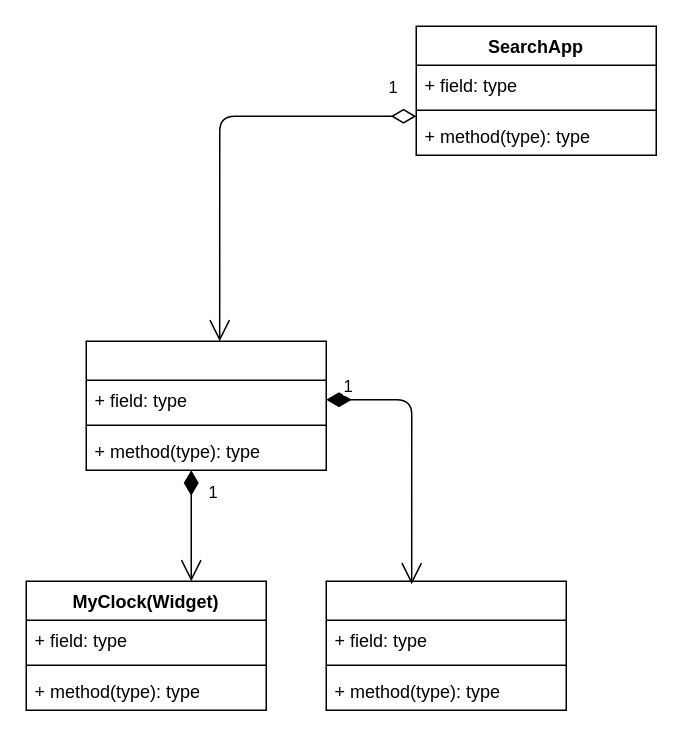
Some shapes in this 683 by 741 pixel diagram are drawn without their labels. Each missing label, with the box of its shape:
MyLayout(Widget): (85, 340, 326, 470)
MySearchInOut(Widget): (325, 580, 566, 710)
